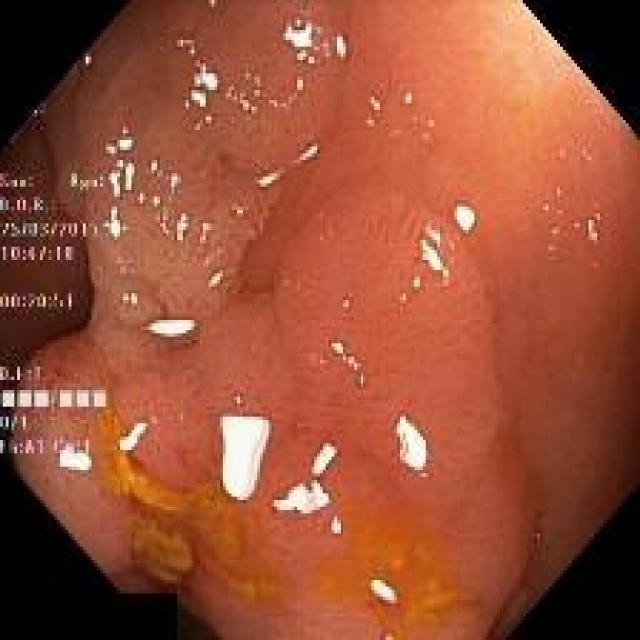Polyps: (4, 3, 538, 639), (40, 3, 350, 369), (275, 191, 501, 480)
